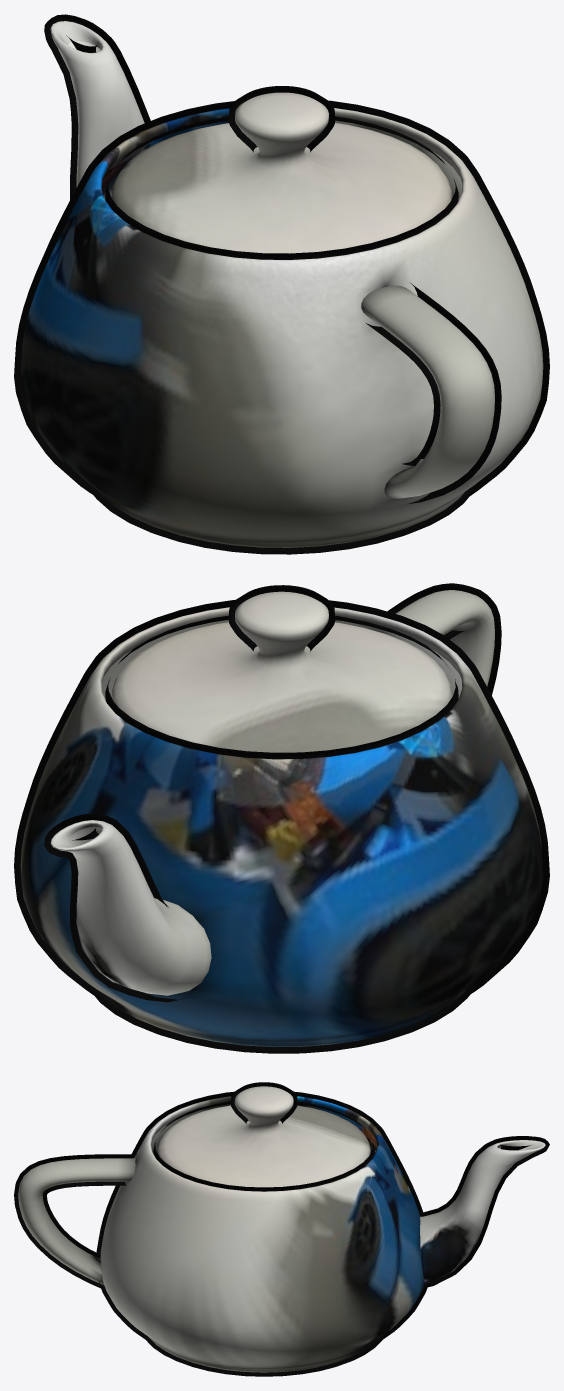
Rendered from teapot_multimat.glb.
The picture shows the model from 3 angles, top to bottom: view 1: azimuth 30°, elevation 25°; view 2: azimuth 150°, elevation 25°; view 3: azimuth 270°, elevation 25°; orthographic projection. The views are drawn at different scales.
Visible parts, largest first — view 1: teapot; view 2: teapot; view 3: teapot.
Part boxes in pixels (bbox=[...]): teapot: bbox=[14, 14, 549, 554]; teapot: bbox=[14, 583, 549, 1053]; teapot: bbox=[14, 1082, 549, 1376].
Size of the model in its own units: 4.1 by 3.25 by 6.54.
Materials: 2 (1 with a texture image).
